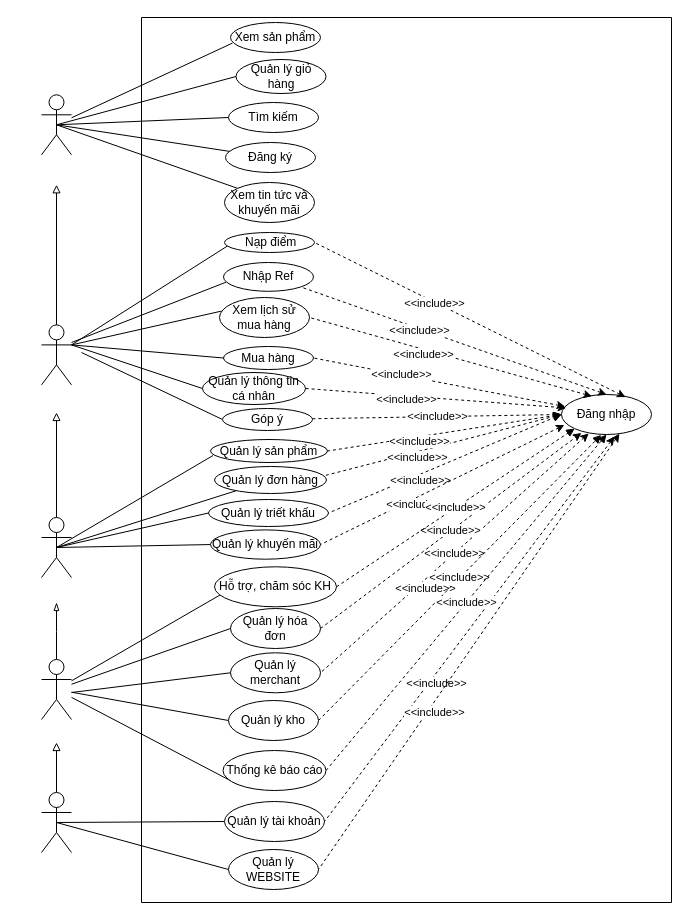
Some shapes in this 689 by 920 pixel diagram are drawn without their labels. The shapes that lost their labels are listed below. From the top down, each one's centre as x and y in pixels, then its label:
At [56,124]: "Khách vãng lai".
At [56,354]: "Khách hàng".
At [56,547]: "Merchant".
At [56,689]: "Nhân viên".
At [56,822]: "Admin".
